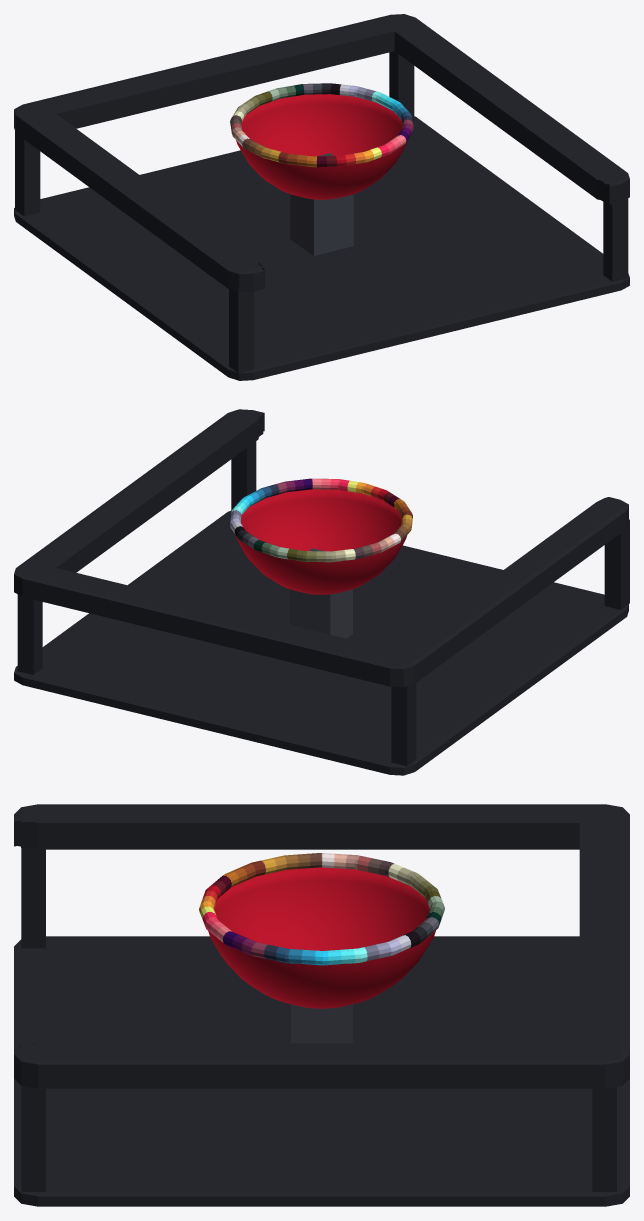
The model's file is ElevatorStuff2.fbx.
The picture shows the model from 3 angles, top to bottom: view 1: azimuth 30°, elevation 25°; view 2: azimuth 150°, elevation 25°; view 3: azimuth 270°, elevation 25°; orthographic projection. The views are drawn at different scales.
Parts seen in each view (by area): view 1: Elevator, ItemContainer; view 2: Elevator, ItemContainer; view 3: Elevator, ItemContainer.
Boxes of the visible parts, x1,y1,x2,y2 form: Elevator: (14, 14, 629, 380); ItemContainer: (230, 83, 413, 255); Elevator: (14, 409, 629, 775); ItemContainer: (230, 478, 412, 638); Elevator: (14, 804, 629, 1206); ItemContainer: (199, 853, 444, 1043).
Bounding box in the file's own units: 5 × 1.56 × 5.
